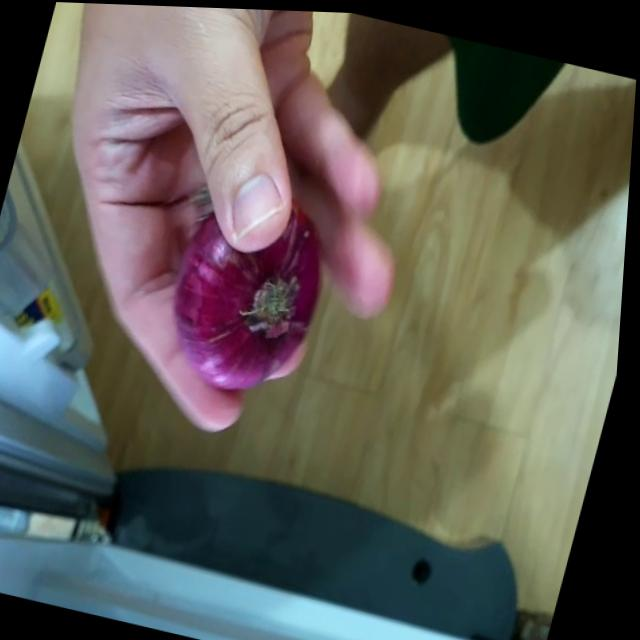onion: (151, 183, 340, 404)
